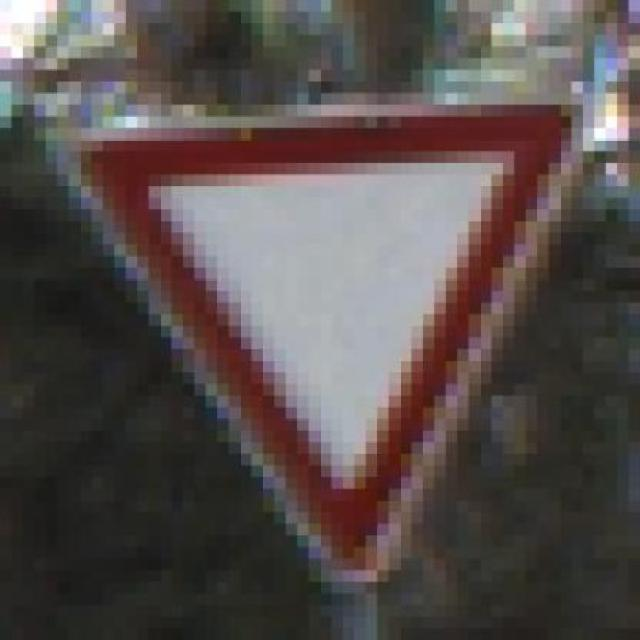Give Way: (36, 93, 596, 582)
